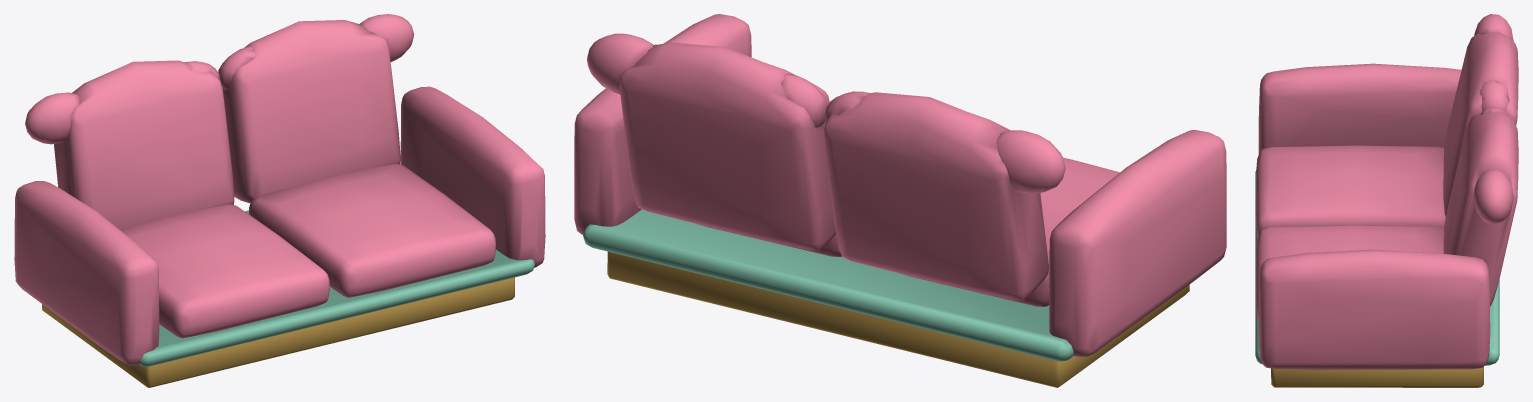
Rendered from pastel-pop--candy-sofa.glb.
The picture shows the model from 3 angles, left to right: view 1: azimuth 30°, elevation 25°; view 2: azimuth 150°, elevation 25°; view 3: azimuth 270°, elevation 25°; orthographic projection. The views are drawn at different scales.
Visible parts, largest first — view 1: pastel-pop--candy-sofa; view 2: pastel-pop--candy-sofa; view 3: pastel-pop--candy-sofa.
Part boxes in pixels (x1=…): pastel-pop--candy-sofa: x1=14, y1=14, x2=545, y2=387; pastel-pop--candy-sofa: x1=574, y1=14, x2=1226, y2=387; pastel-pop--candy-sofa: x1=1255, y1=14, x2=1518, y2=387.
Bounding box in the file's own units: 1.59 × 0.7786 × 0.8622.
